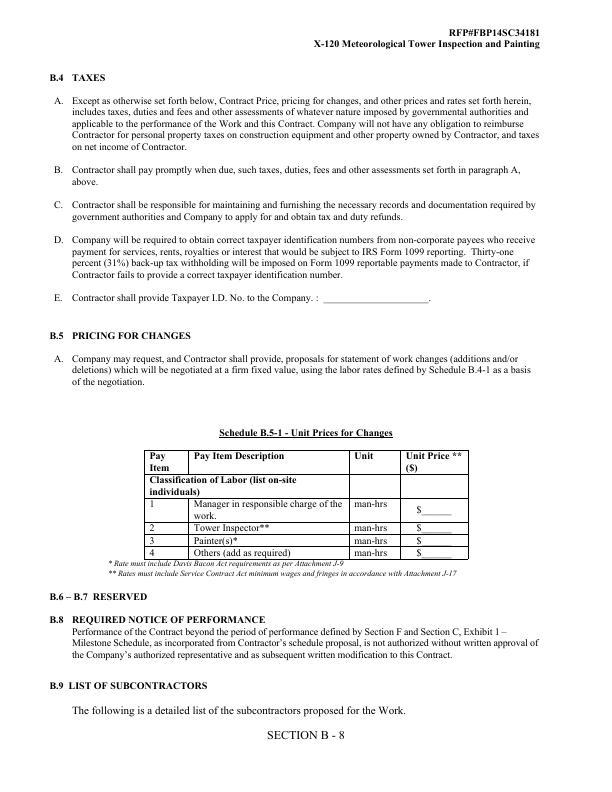input: (322, 288, 435, 310)
table: (140, 446, 479, 562)
text: (53, 96, 545, 153), (49, 612, 549, 666), (53, 232, 540, 281), (51, 351, 541, 390), (44, 679, 417, 721), (52, 197, 540, 224), (51, 163, 526, 189), (108, 560, 468, 580), (310, 23, 543, 53), (49, 286, 320, 309), (216, 426, 398, 441), (46, 326, 194, 343), (47, 589, 153, 605), (50, 71, 110, 83)
